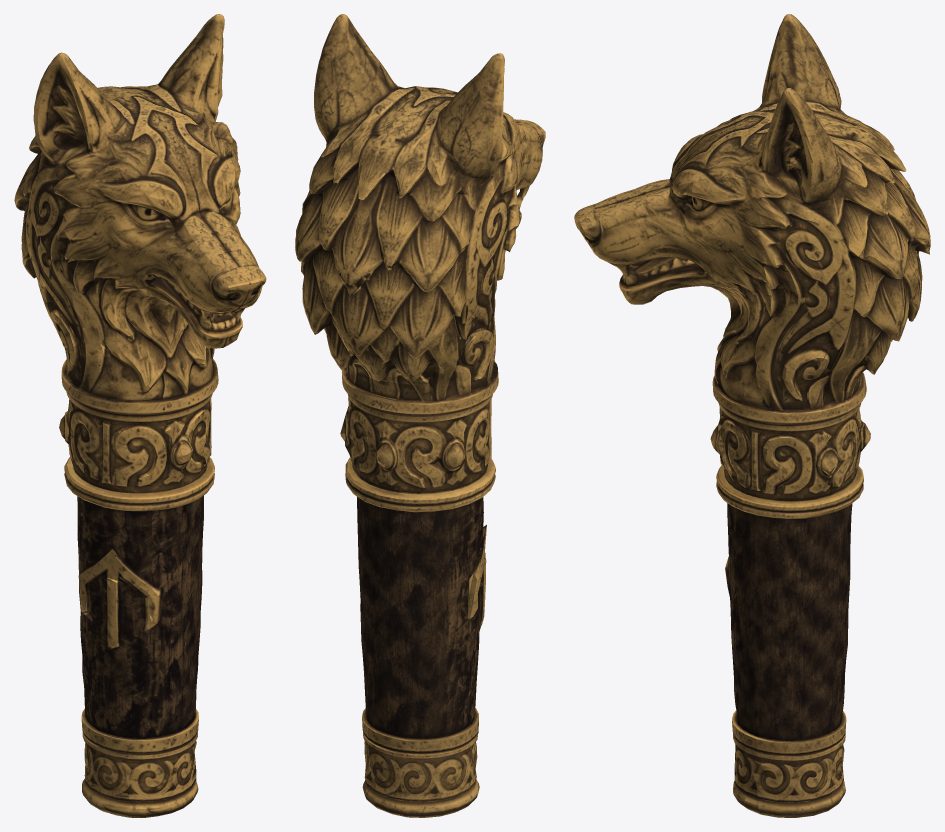
The model's file is bori.glb.
3 renders of one model, left to right at view 1: azimuth 30°, elevation 25°; view 2: azimuth 150°, elevation 25°; view 3: azimuth 270°, elevation 25°, orthographic. The views are drawn at different scales.
Visible parts, largest first — view 1: Mesh0; view 2: Mesh0; view 3: Mesh0.
Part boxes in pixels (bbox=[...]): Mesh0: bbox=[14, 14, 266, 817]; Mesh0: bbox=[295, 14, 545, 817]; Mesh0: bbox=[574, 14, 930, 817].
Bounding box in the file's own units: 0.4877 × 1.9 × 0.8201.
1 material, 1 textured.
